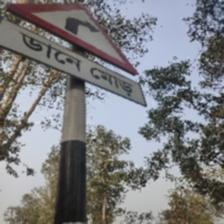Animal: (0, 0, 155, 111)
